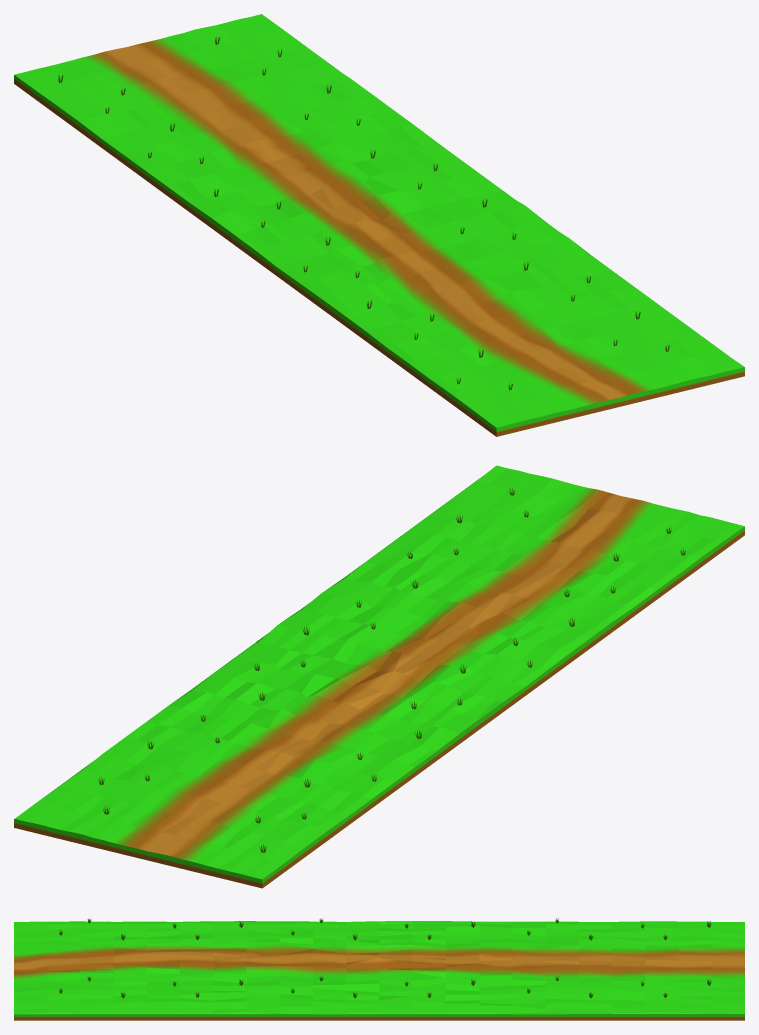
Rendered from ground6.fbx.
3 views of the same model, one above another, from view 1: azimuth 30°, elevation 25°; view 2: azimuth 150°, elevation 25°; view 3: azimuth 270°, elevation 25° (orthographic). The views are drawn at different scales.
Visible parts, largest first — view 1: Plane.003; view 2: Plane.003; view 3: Plane.003.
Boxes of the visible parts, x1,y1,x2,y2 form: Plane.003: [14, 14, 744, 436]; Plane.003: [14, 465, 744, 888]; Plane.003: [14, 921, 744, 1020].
Size of the model in its own units: 3490 by 285 by 11739.
